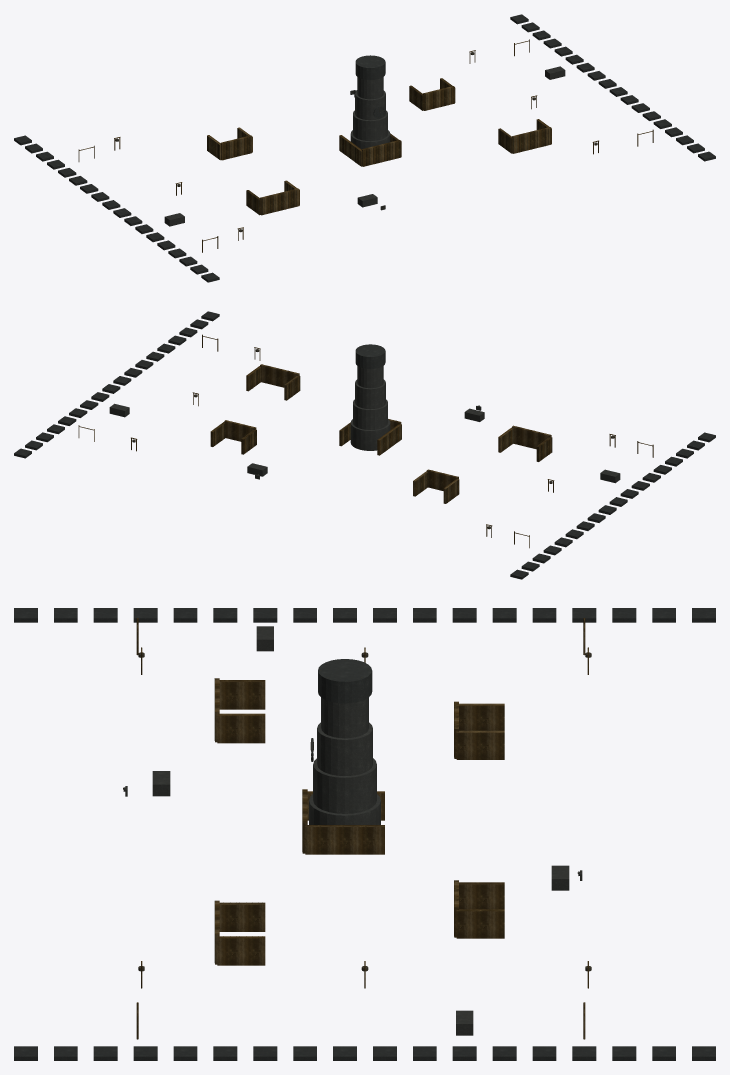
The model's file is environment.glb.
3 views of the same model, one above another, from view 1: azimuth 30°, elevation 25°; view 2: azimuth 150°, elevation 25°; view 3: azimuth 270°, elevation 25° (orthographic). The views are drawn at different scales.
Parts seen in each view (by area): view 1: Environment_stone.007, Environment_wood.005, Environment_iron.007; view 2: Environment_stone.007, Environment_wood.005, Environment_iron.007; view 3: Environment_stone.007, Environment_wood.005, Environment_iron.007.
Part boxes in pixels (bbox=[...]): Environment_stone.007: bbox=[14, 14, 715, 282]; Environment_wood.005: bbox=[78, 39, 653, 252]; Environment_iron.007: bbox=[352, 55, 385, 207]; Environment_stone.007: bbox=[14, 311, 715, 579]; Environment_wood.005: bbox=[78, 334, 653, 548]; Environment_iron.007: bbox=[257, 344, 479, 475]; Environment_stone.007: bbox=[14, 608, 715, 1060]; Environment_wood.005: bbox=[136, 618, 588, 1039]; Environment_iron.007: bbox=[124, 659, 580, 875].
Size of the model in its own units: 133 by 23.5 by 88.
Materials: 5 (4 with a texture image).
